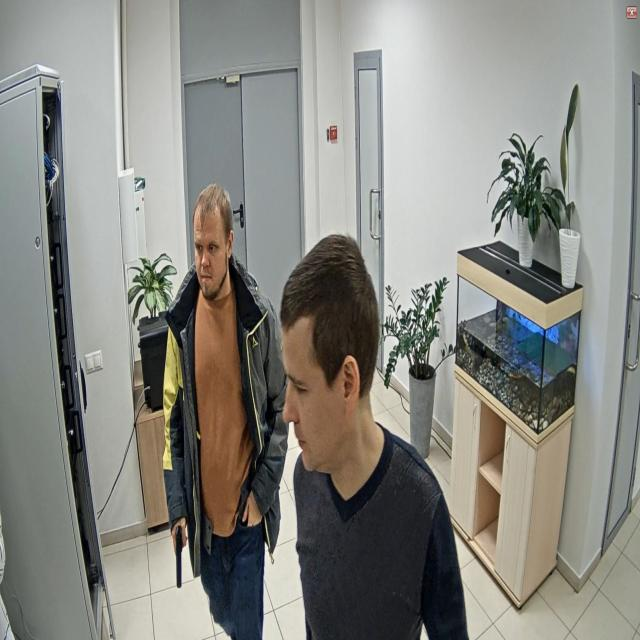-Gun: (175, 526, 183, 589)
